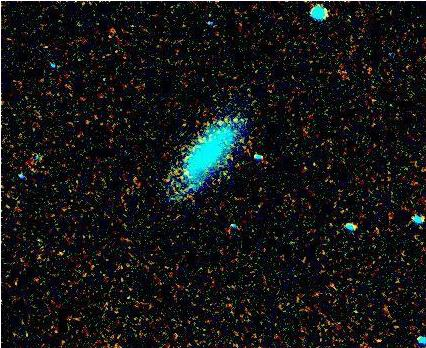star: (172, 157, 202, 187)
